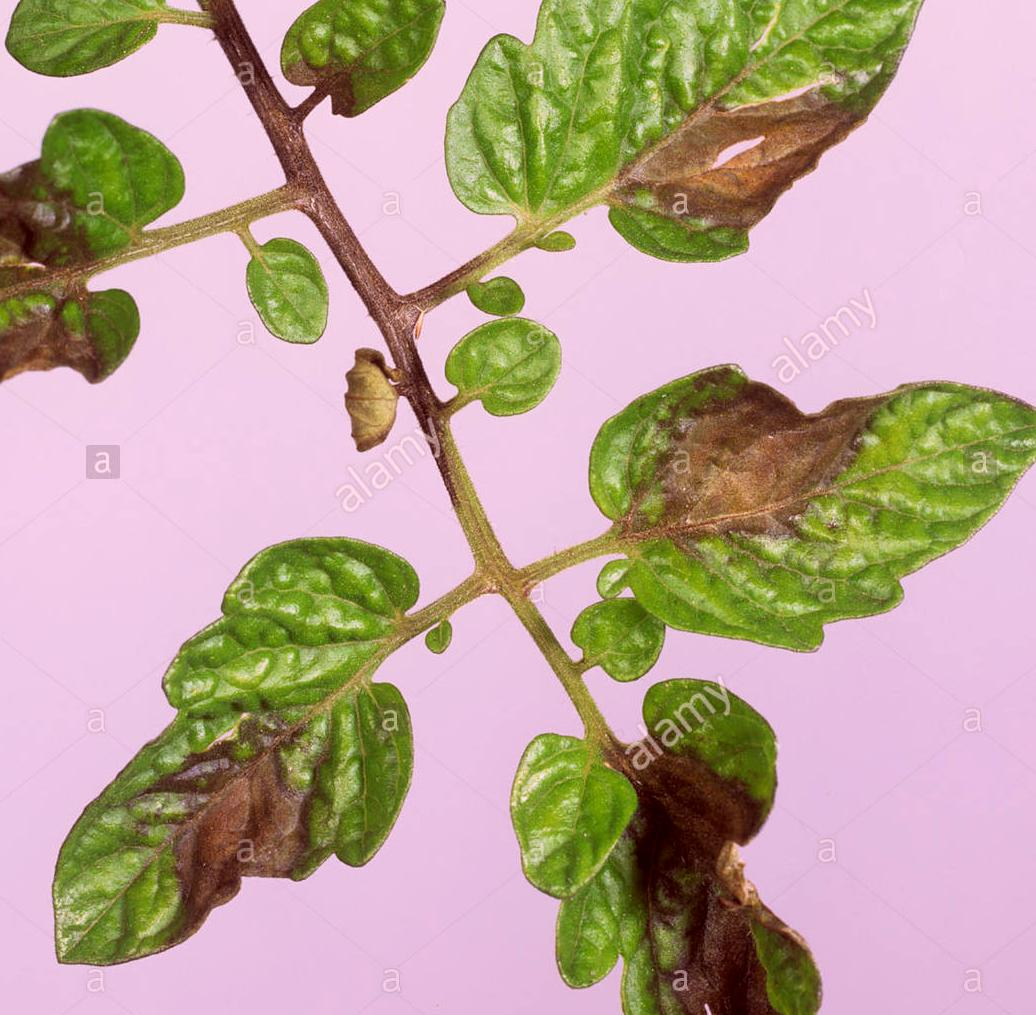Tomato leaf late blight: (37, 518, 448, 994), (575, 360, 1036, 686), (437, 0, 956, 272), (495, 660, 886, 1015)
